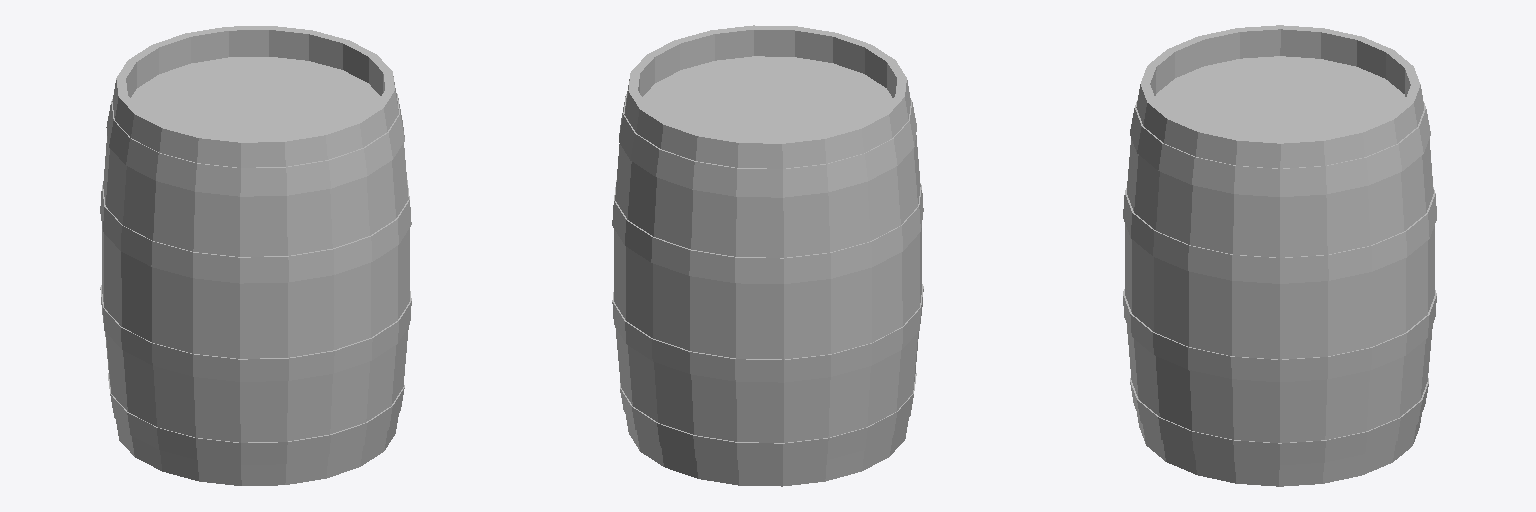
File: barrel.obj
The picture shows the model from 3 angles: view 1: azimuth 30°, elevation 25°; view 2: azimuth 150°, elevation 25°; view 3: azimuth 270°, elevation 25°; orthographic projection.
Visible parts, largest first — view 1: barrel:default1; view 2: barrel:default1; view 3: barrel:default1.
Boxes of the visible parts, x1,y1,x2,y2 form: barrel:default1: [100, 26, 411, 485]; barrel:default1: [612, 25, 923, 486]; barrel:default1: [1123, 25, 1436, 486].
Size of the model in its own units: 1.5 by 1.82 by 1.51.